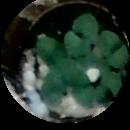Basil: (62, 16, 96, 53), (40, 68, 68, 102), (92, 73, 121, 105), (71, 73, 97, 105), (102, 29, 125, 65), (40, 38, 63, 64)
